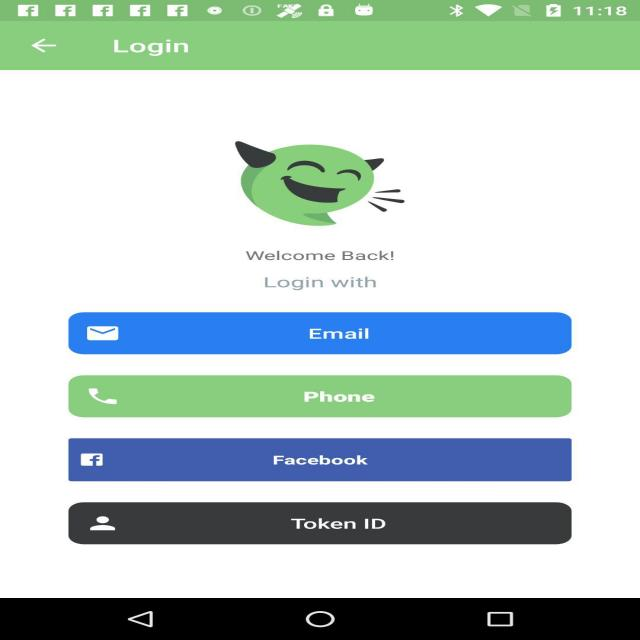button: (50, 302, 620, 568)
icon: (14, 30, 81, 73)
image: (112, 104, 484, 240)
text: (241, 244, 419, 298), (101, 29, 215, 68)
